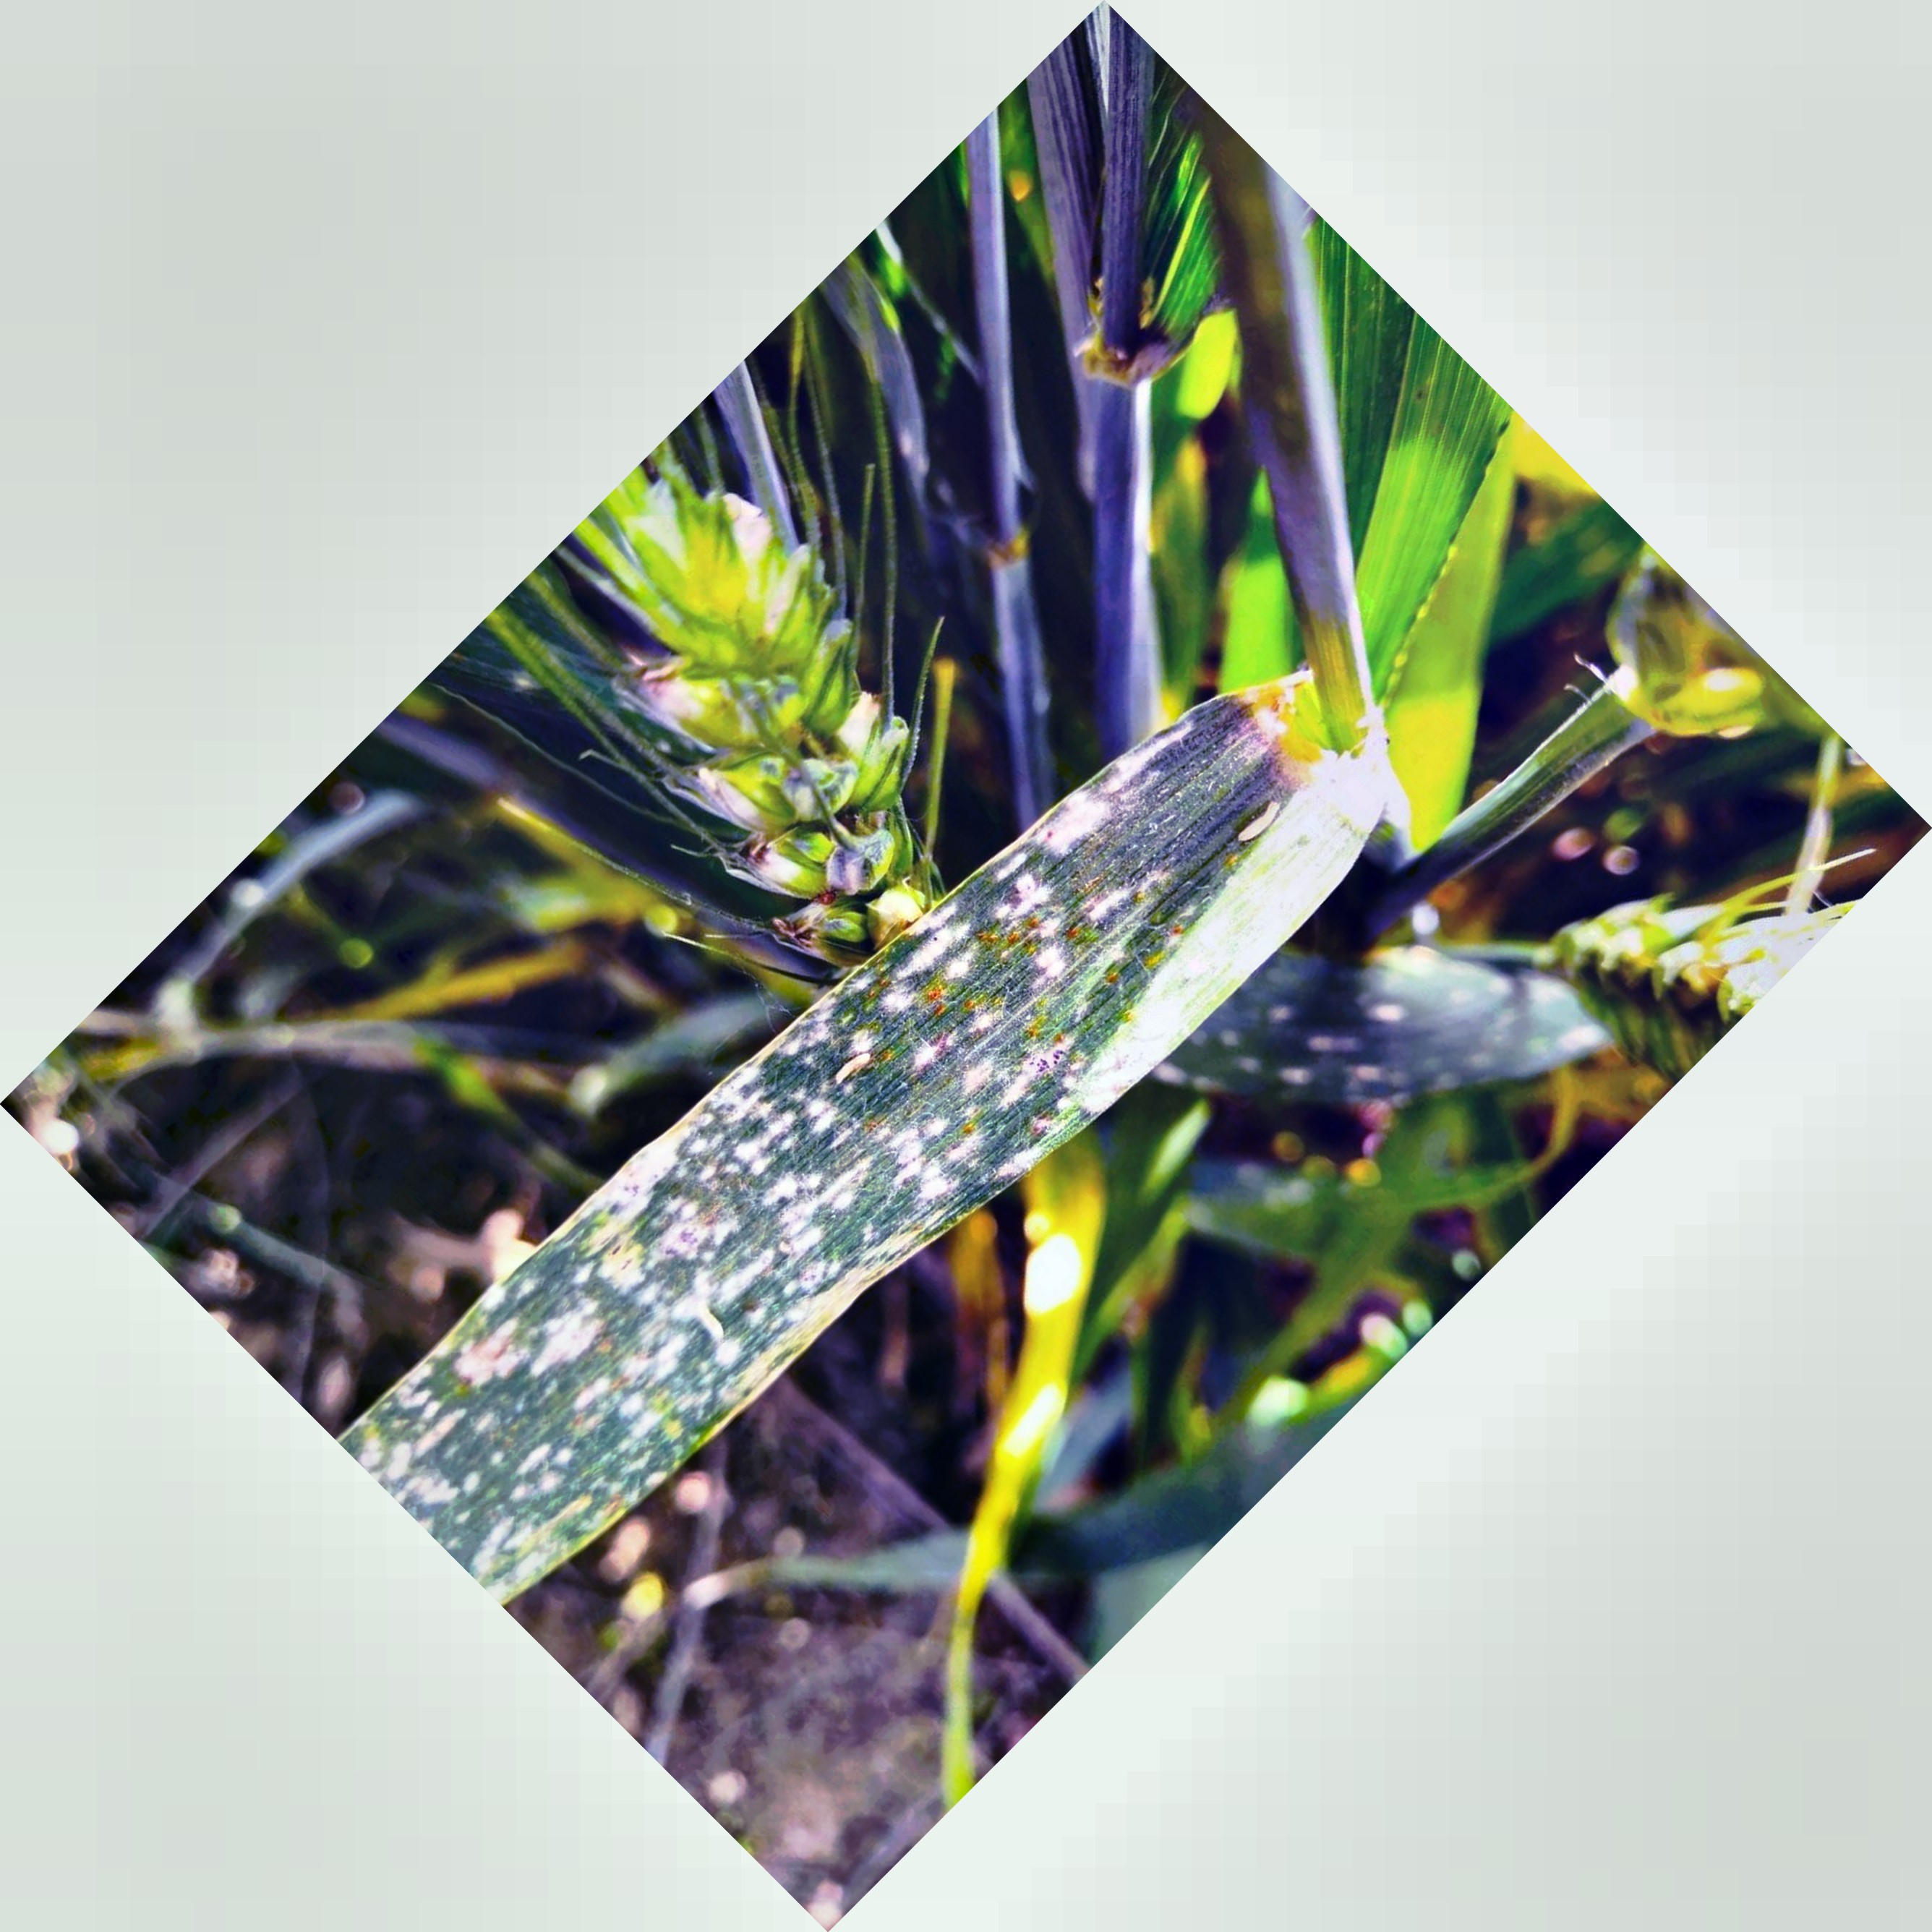Powdery Mildew: (396, 821, 1223, 1483)
